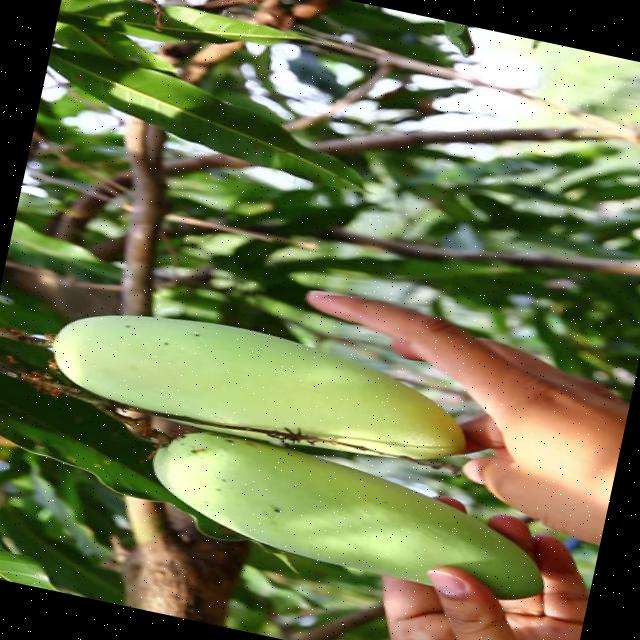mango: (154, 432, 542, 598), (52, 314, 464, 458)
